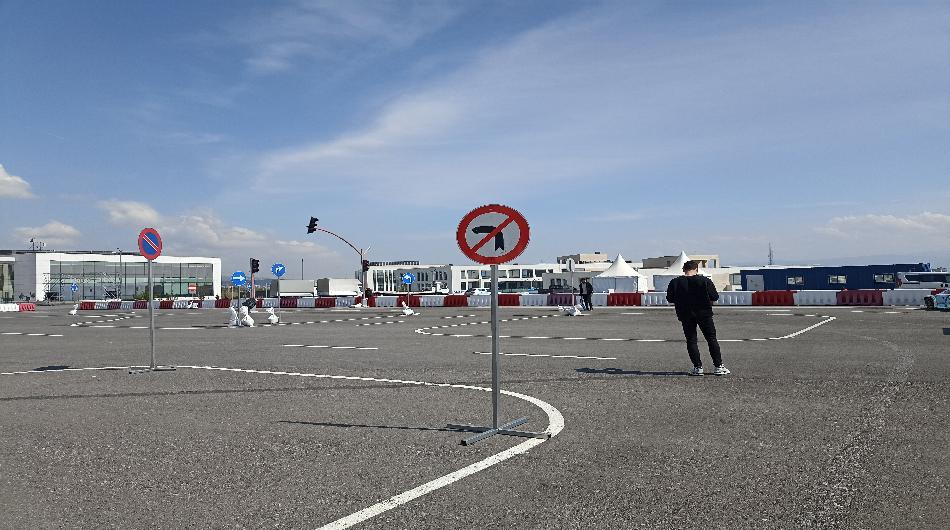park_yapilmaz_1: (136, 227, 163, 262)
sola_donulmez: (454, 203, 528, 264)
